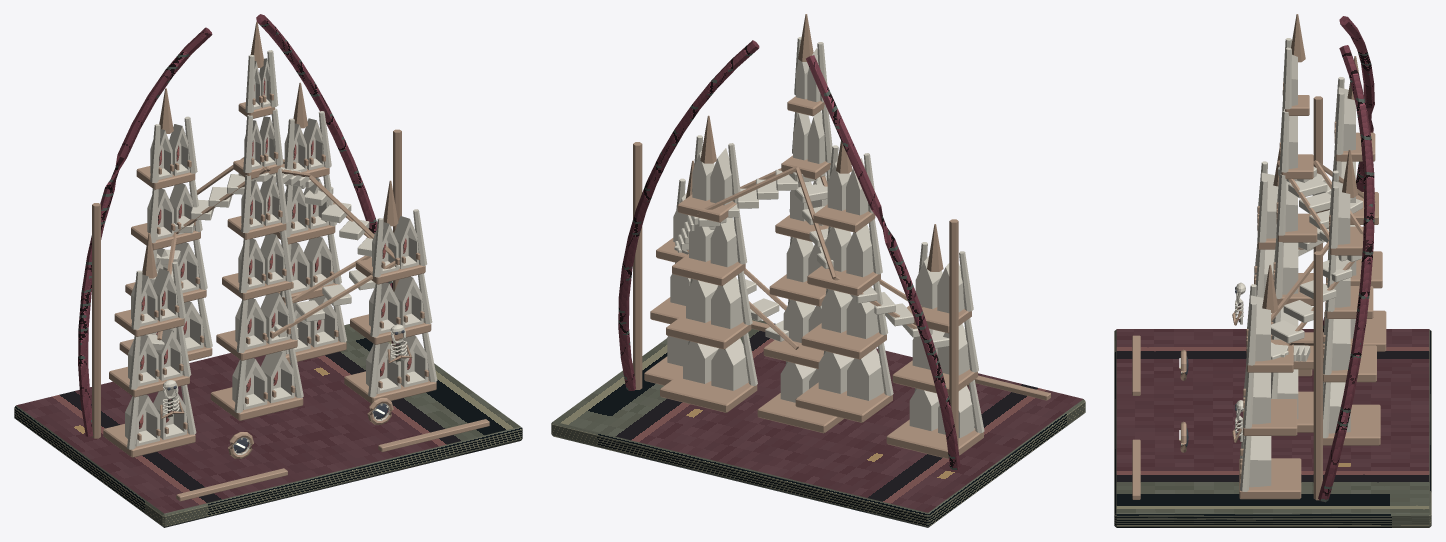
The model's file is inversion_tower_cluster.glb.
3 renders of one model, left to right at view 1: azimuth 30°, elevation 25°; view 2: azimuth 150°, elevation 25°; view 3: azimuth 270°, elevation 25°, orthographic. The views are drawn at different scales.
Parts seen in each view (by area): view 1: inversion_tower_cluster_warm, inversion_tower_cluster_petrol, inversion_tower_cluster_worn, inversion_tower_cluster_bruised, inversion_tower_cluster_suture; view 2: inversion_tower_cluster_warm, inversion_tower_cluster_petrol, inversion_tower_cluster_worn, inversion_tower_cluster_bruised; view 3: inversion_tower_cluster_petrol, inversion_tower_cluster_warm, inversion_tower_cluster_worn, inversion_tower_cluster_bruised.
Part boxes in pixels (x1,y1,x2,y2): inversion_tower_cluster_warm: [125, 50, 437, 454]; inversion_tower_cluster_petrol: [14, 324, 522, 527]; inversion_tower_cluster_worn: [92, 22, 489, 501]; inversion_tower_cluster_bruised: [78, 14, 392, 436]; inversion_tower_cluster_suture: [139, 78, 411, 428]; inversion_tower_cluster_warm: [667, 37, 984, 437]; inversion_tower_cluster_petrol: [551, 319, 1085, 527]; inversion_tower_cluster_worn: [633, 14, 1050, 464]; inversion_tower_cluster_bruised: [618, 40, 960, 469]; inversion_tower_cluster_petrol: [1114, 303, 1431, 527]; inversion_tower_cluster_warm: [1181, 38, 1362, 491]; inversion_tower_cluster_worn: [1132, 14, 1386, 500]; inversion_tower_cluster_bruised: [1318, 16, 1374, 502].
Size of the model in its own units: 6.3 by 6.67 by 4.55.
7 materials, 3 textured.
